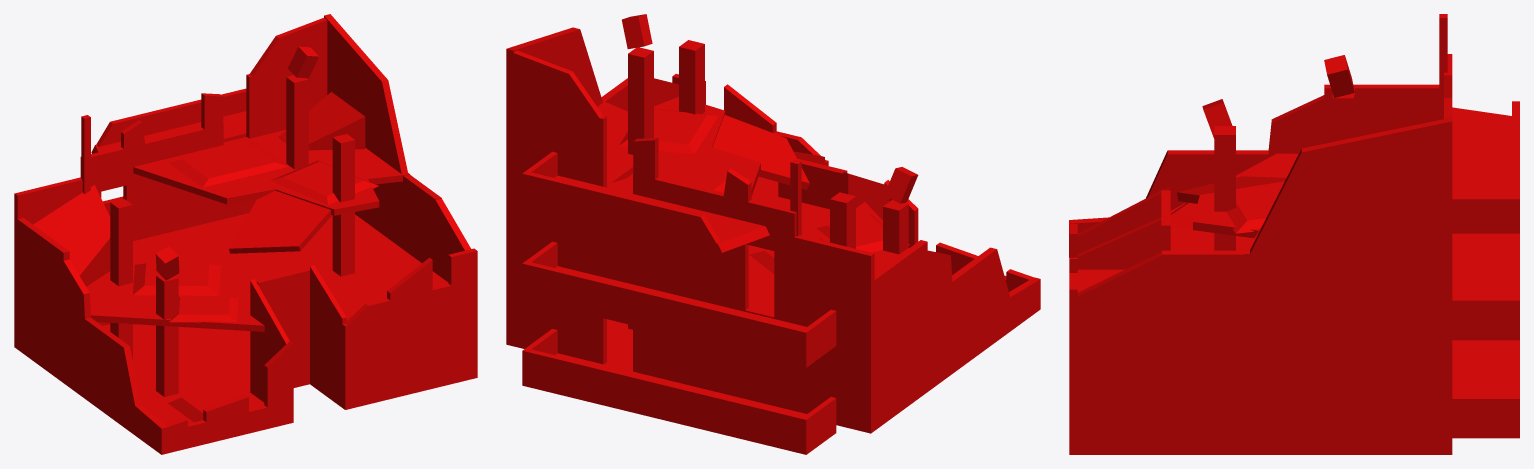
Rendered from SM_Bld_HighRise_Medium_01_Stack_Destroyed_01_Collision.fbx.
3 renders of one model, left to right at view 1: azimuth 30°, elevation 25°; view 2: azimuth 150°, elevation 25°; view 3: azimuth 270°, elevation 25°, orthographic. The views are drawn at different scales.
Parts seen in each view (by area): view 1: SM_Bld_HighRise_Medium_01_Stack_Destroyed_01_Collision; view 2: SM_Bld_HighRise_Medium_01_Stack_Destroyed_01_Collision; view 3: SM_Bld_HighRise_Medium_01_Stack_Destroyed_01_Collision.
Part boxes in pixels (bbox=[...]): SM_Bld_HighRise_Medium_01_Stack_Destroyed_01_Collision: bbox=[14, 14, 477, 454]; SM_Bld_HighRise_Medium_01_Stack_Destroyed_01_Collision: bbox=[506, 14, 1040, 454]; SM_Bld_HighRise_Medium_01_Stack_Destroyed_01_Collision: bbox=[1069, 14, 1519, 454].
Bounding box in the file's own units: 1290 × 1086 × 1224.
